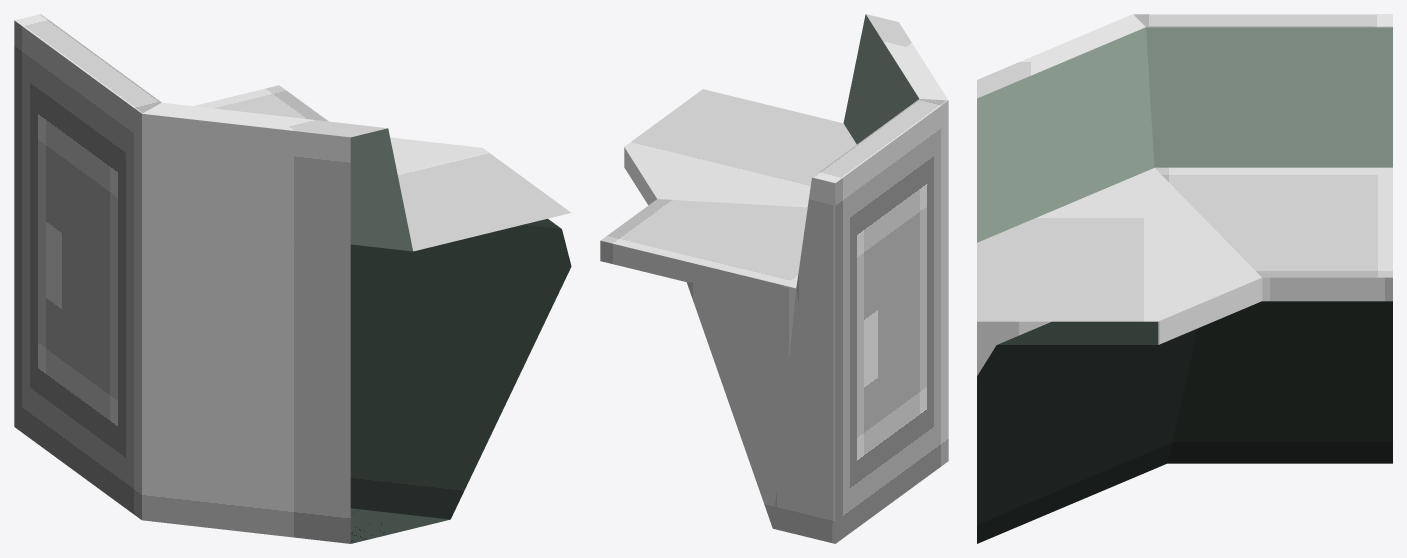
The model's file is run_desk_inside_bend_b_0_m.obj.
3 views of the same model, side by side, from view 1: azimuth 30°, elevation 25°; view 2: azimuth 150°, elevation 25°; view 3: azimuth 270°, elevation 25° (orthographic). The views are drawn at different scales.
Size of the model in its own units: 1 by 1.1 by 1.
